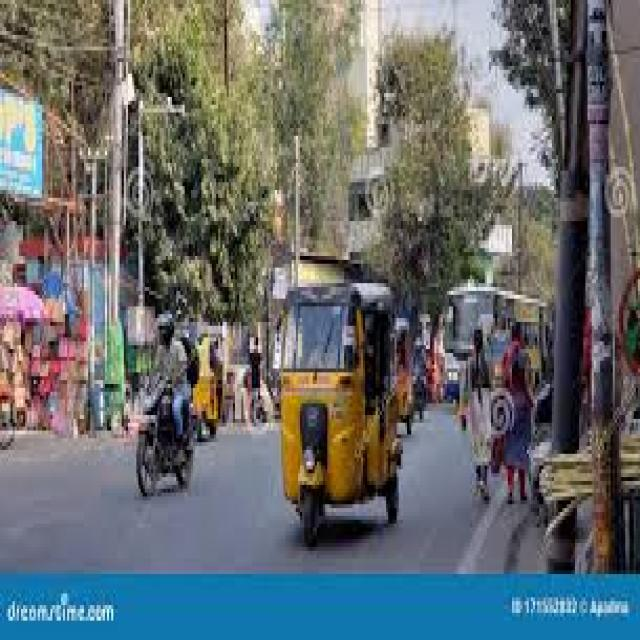bus: (445, 283, 548, 469)
motorcycle: (136, 376, 191, 496), (413, 376, 424, 423)
person: (504, 326, 531, 504), (155, 314, 187, 442), (470, 330, 489, 500)
three wheeler: (283, 287, 401, 547), (183, 322, 220, 438), (394, 318, 411, 434)
